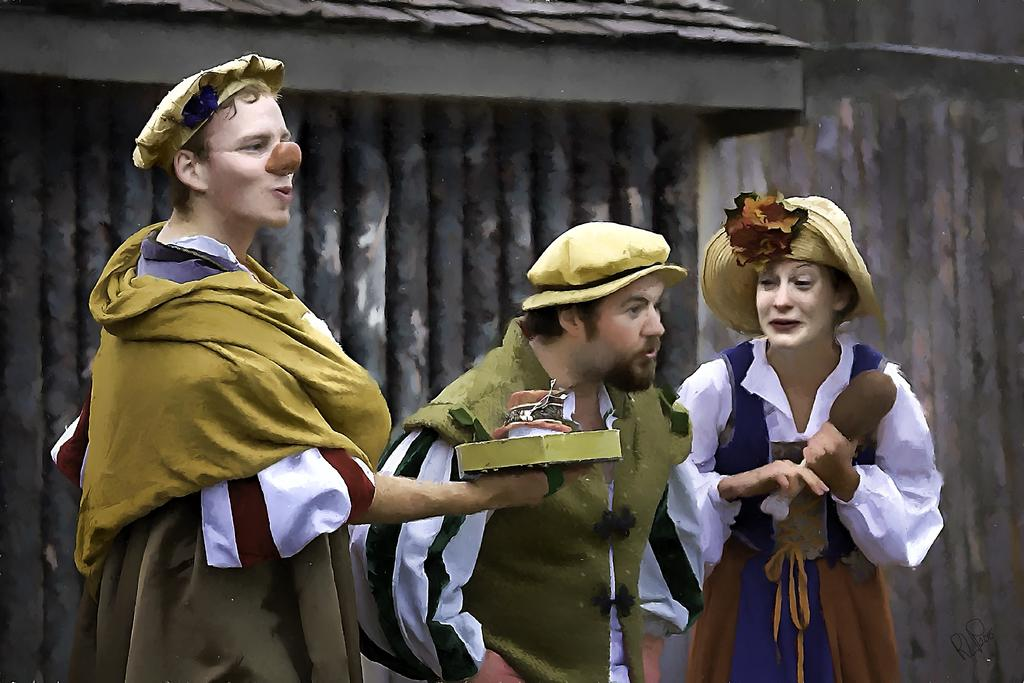Hat: (696, 199, 889, 336), (134, 49, 288, 172), (518, 214, 688, 313)
